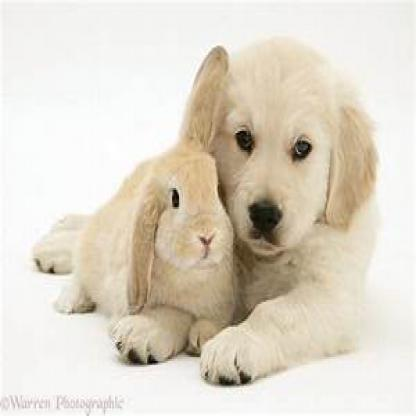dog: (32, 36, 381, 382)
